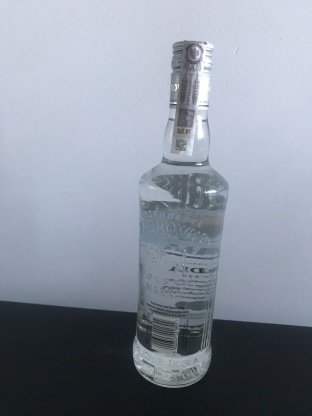nakretka: (168, 35, 216, 112)
